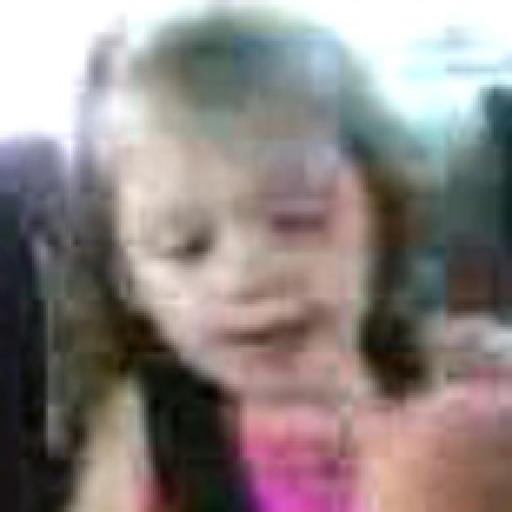Autism: (82, 33, 478, 428)
